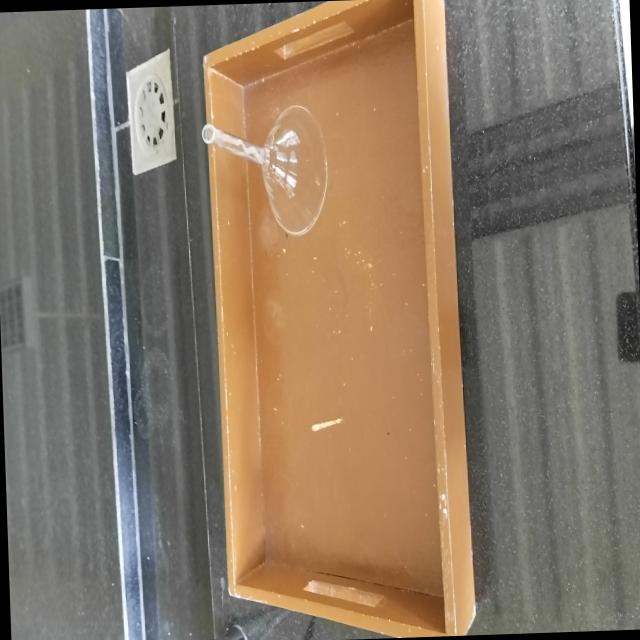funnel: (198, 79, 332, 242)
